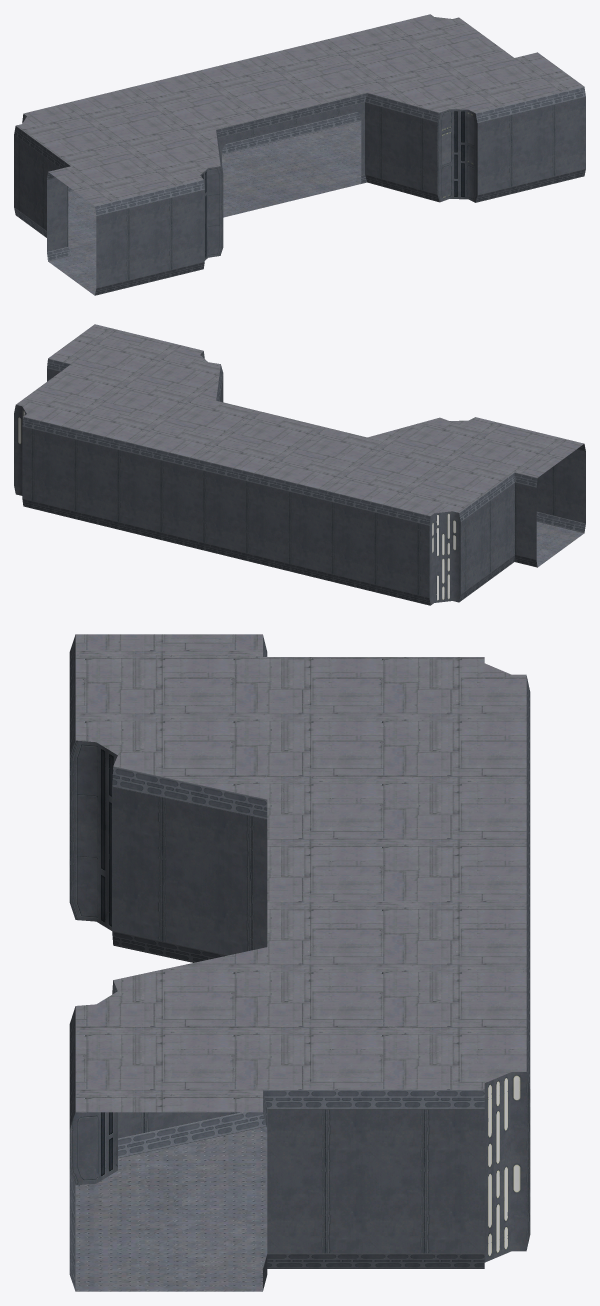
Rendered from mun_tato_starport_s01_u01_r1_foyer1_mesh_r1.fbx.
The picture shows the model from 3 angles, top to bottom: view 1: azimuth 30°, elevation 25°; view 2: azimuth 150°, elevation 25°; view 3: azimuth 270°, elevation 25°; orthographic projection. The views are drawn at different scales.
Parts seen in each view (by area): view 1: mesh_node; view 2: mesh_node; view 3: mesh_node.
Part boxes in pixels (bbox=[...]): mesh_node: bbox=[14, 14, 585, 295]; mesh_node: bbox=[14, 324, 585, 605]; mesh_node: bbox=[69, 634, 530, 1291].
Bounding box in the file's own units: 22.85 × 4 × 9.32.
